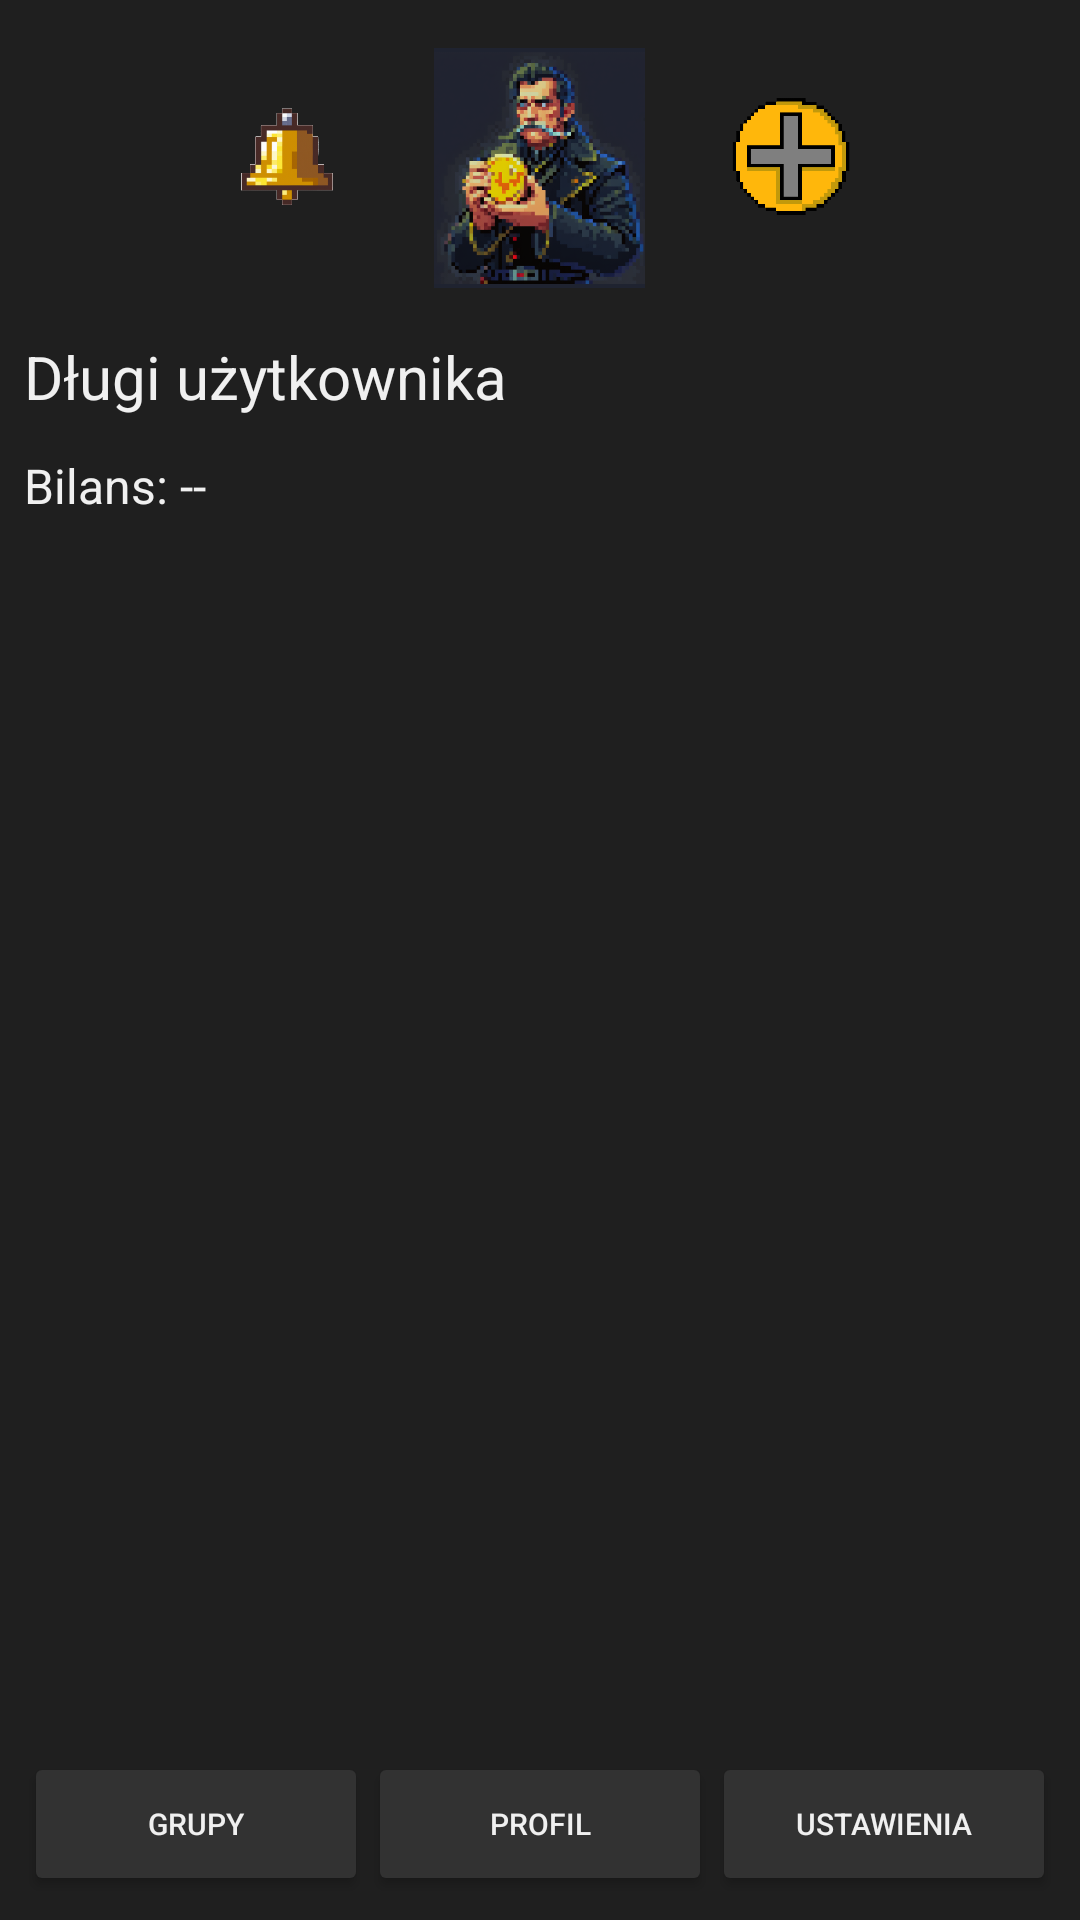

Screen size 1080px x 1920px. Icon name, then its box in pixels as (left=x1, top=y1, right=x2, bottom=y2):
Notifications Icon: (left=241, top=108, right=333, bottom=205)
plus: (left=733, top=98, right=849, bottom=215)
